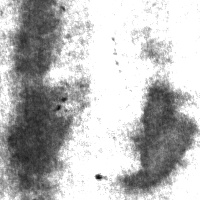patches: (121, 76, 197, 192), (8, 79, 76, 195), (10, 1, 68, 86)
